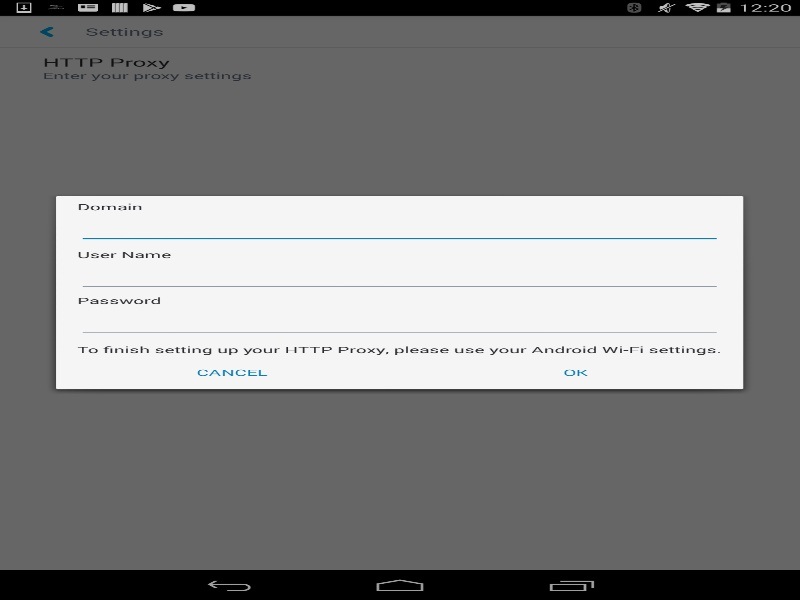Button: (56, 355, 408, 389), (408, 355, 743, 389)
Input: (77, 215, 722, 243), (77, 263, 722, 291), (77, 309, 722, 337)
